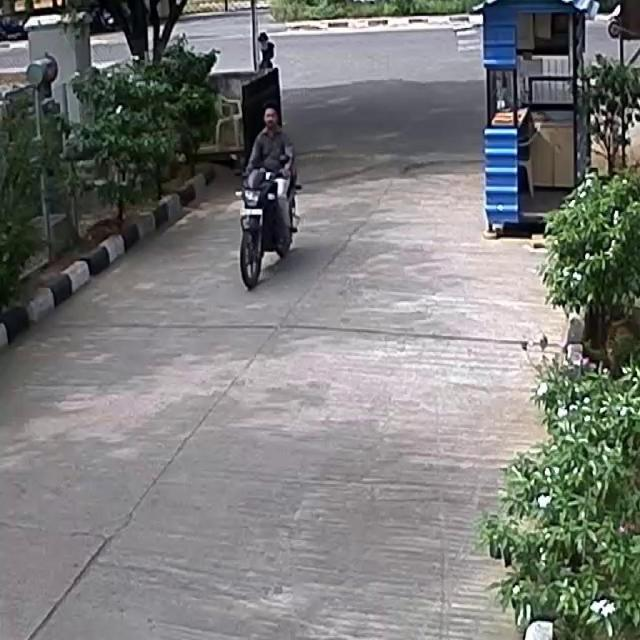without helmet: (260, 102, 278, 132)
